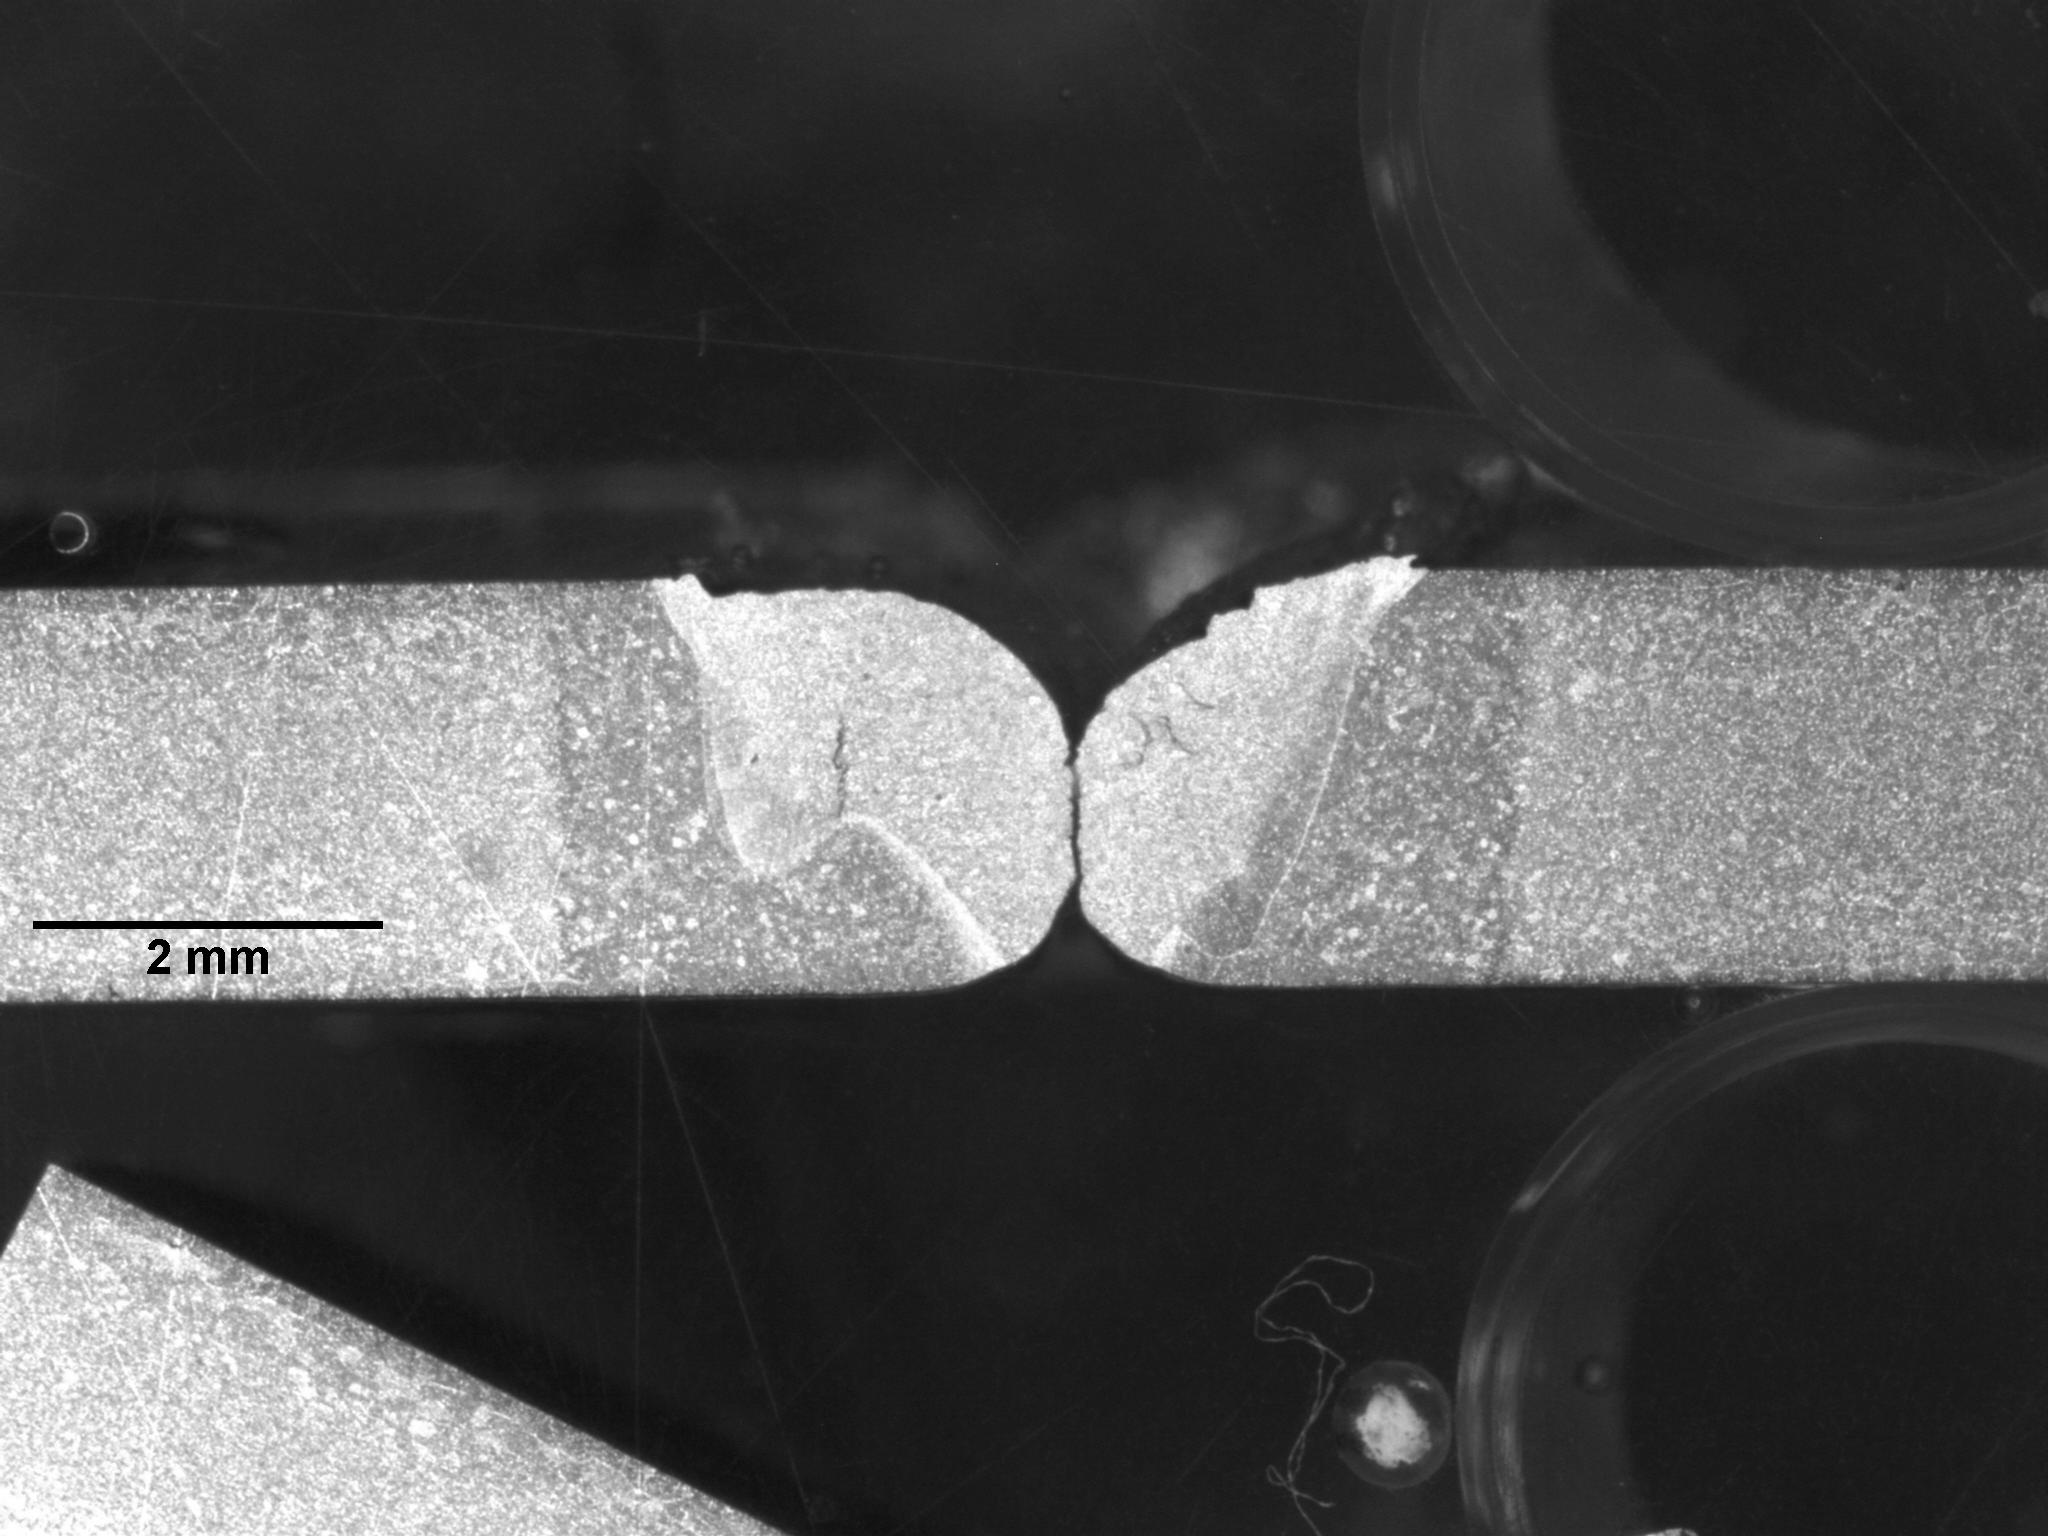Scale-bar: (19, 907, 393, 983)
